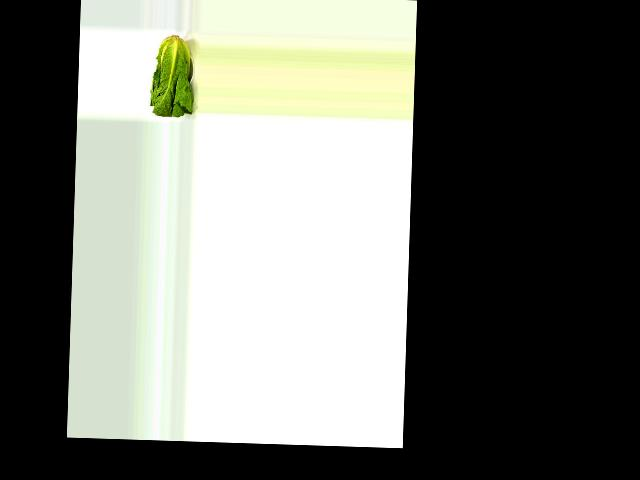lettuce: (148, 33, 196, 117)
